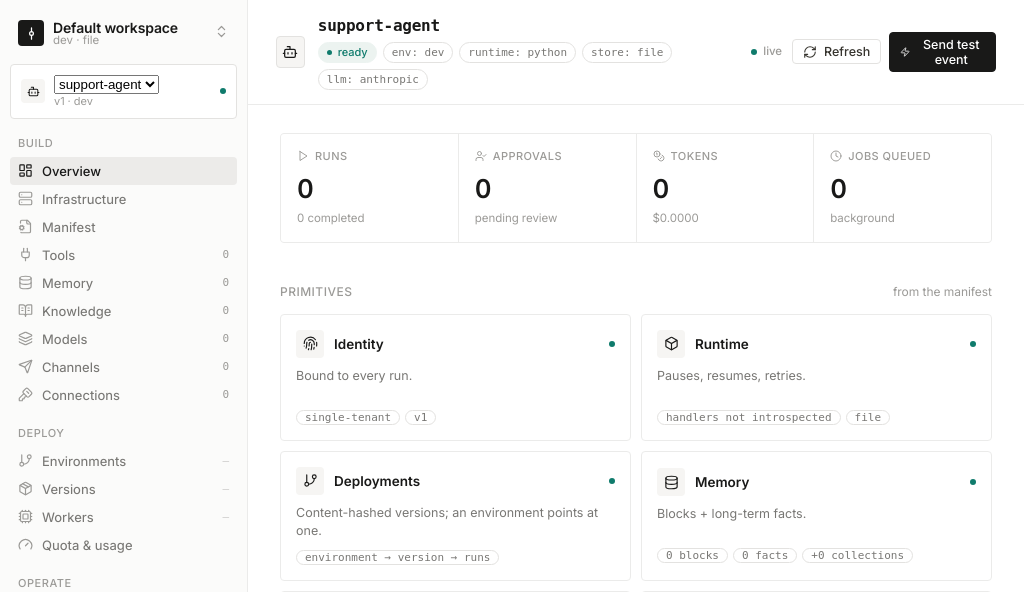
Test case: the agent selector follows the operator (§5.14) › stops saying it the moment the data catches up
Expected: the text "v1 · dev" is shown, top-left (54, 94), bottom-right (93, 108)
Select "billing-agent" in the dropdown named "Agent": x=106, y=84 top-left (54, 75), bottom-right (159, 94)
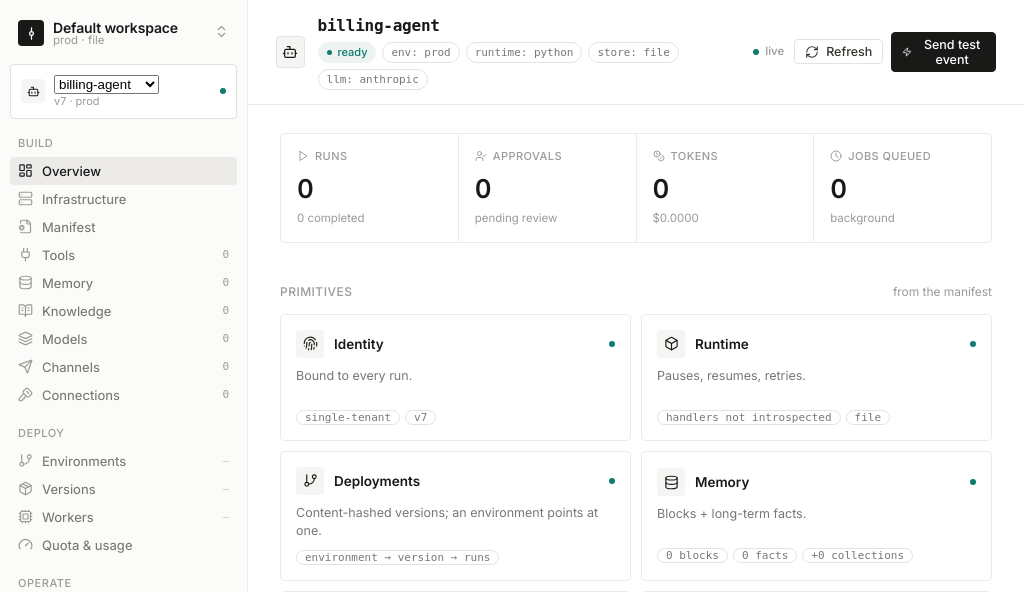
Expected: the text "v7 · prod" is shown, top-left (54, 94), bottom-right (99, 108)
